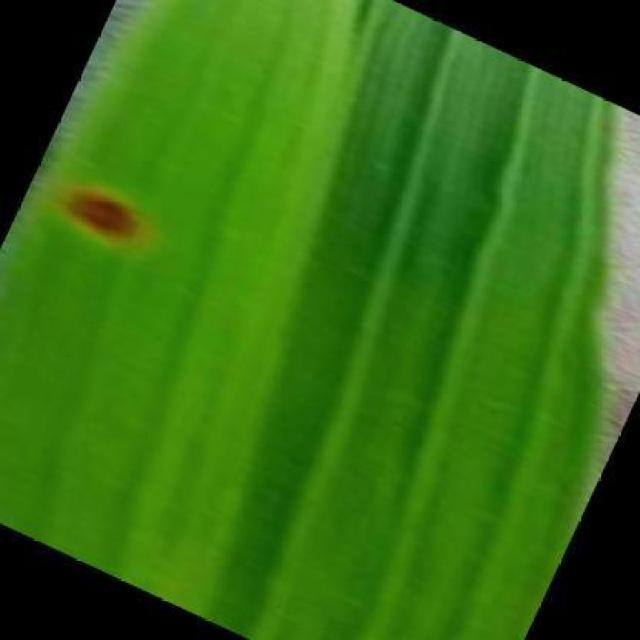Leaf_Blast: (28, 142, 180, 286)
